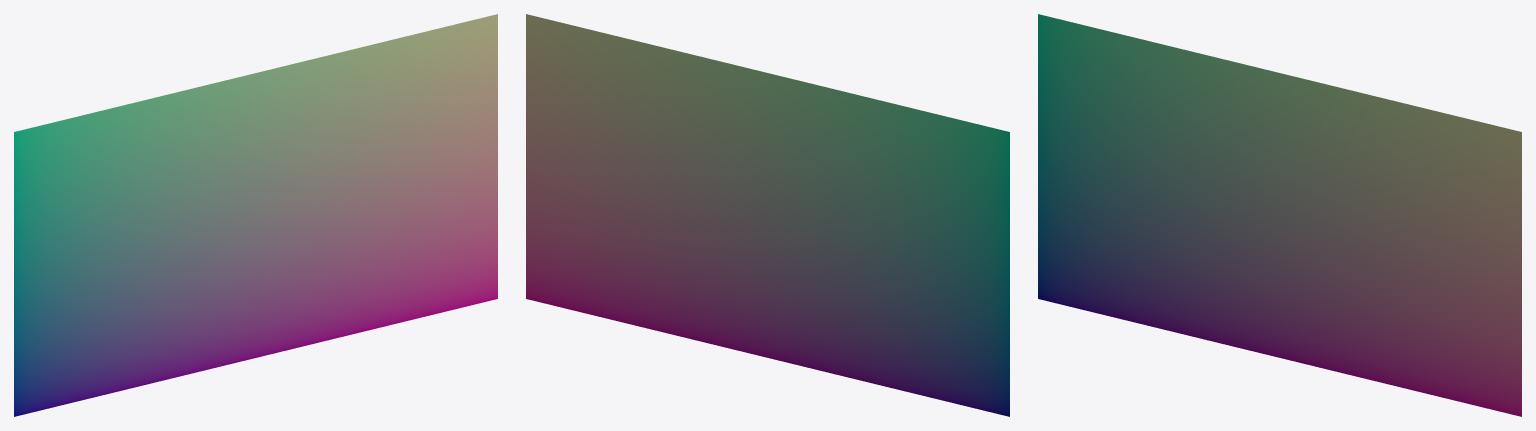
The picture shows the model from 3 angles, left to right: view 1: azimuth 30°, elevation 25°; view 2: azimuth 150°, elevation 25°; view 3: azimuth 330°, elevation 25°; orthographic projection.
Visible parts, largest first — view 1: cloth_vellum; view 2: cloth_vellum; view 3: cloth_vellum.
Boxes of the visible parts, x1,y1,x2,y2 form: cloth_vellum: [14, 14, 497, 416]; cloth_vellum: [526, 14, 1009, 416]; cloth_vellum: [1038, 14, 1521, 416].
Size of the model in its own units: 16 by 9 by 0.
